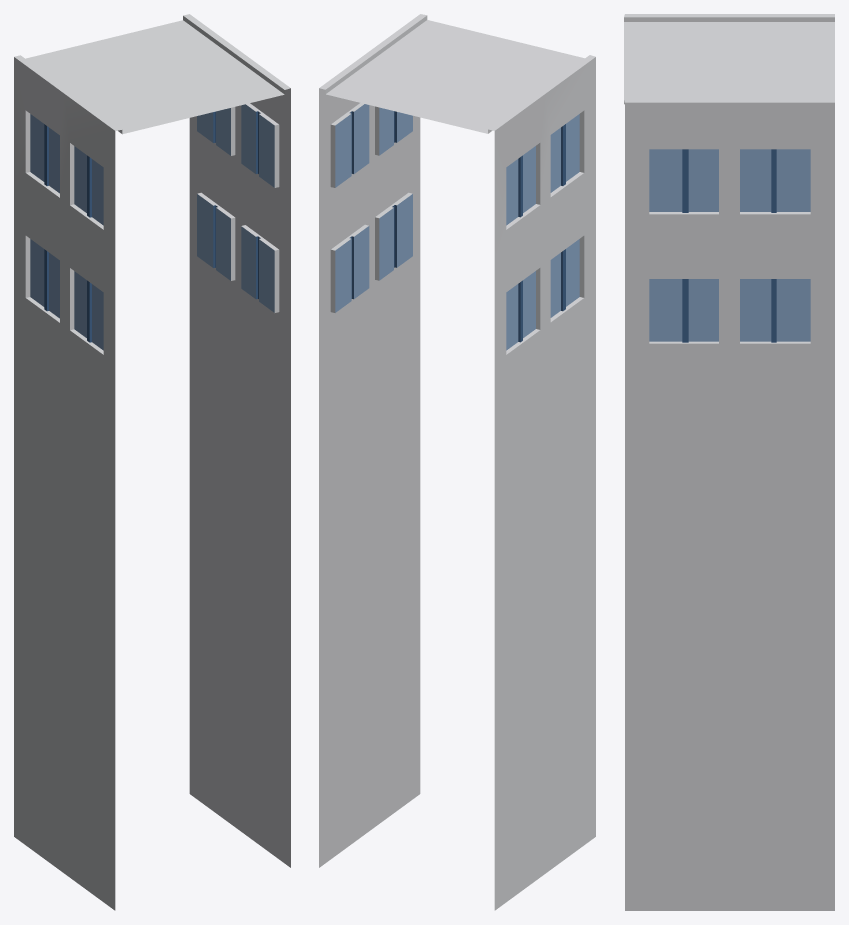
The model's file is Mid.fbx.
3 views of the same model, side by side, from view 1: azimuth 30°, elevation 25°; view 2: azimuth 150°, elevation 25°; view 3: azimuth 270°, elevation 25° (orthographic). The views are drawn at different scales.
Parts seen in each view (by area): view 1: Mid; view 2: Mid; view 3: Mid.
Boxes of the visible parts, x1,y1,x2,y2 form: Mid: (14,14,290,910); Mid: (319,14,595,910); Mid: (624,14,834,910).
Size of the model in its own units: 615 by 2612 by 618.
Materials: 1 (1 with a texture image).
